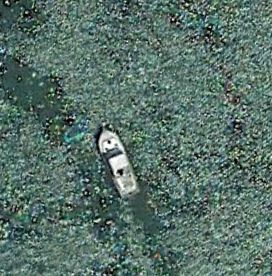boat: (97, 127, 140, 200)
